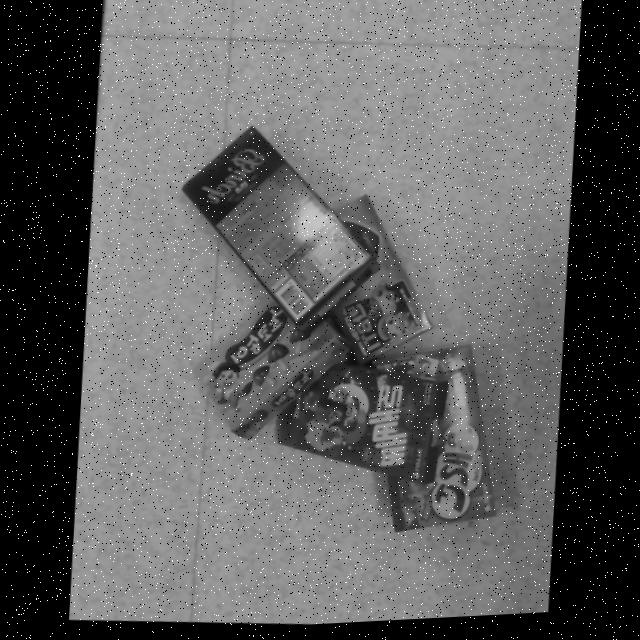box: (181, 127, 372, 327), (191, 283, 346, 441), (298, 198, 430, 369), (374, 351, 492, 535), (275, 368, 445, 487)
